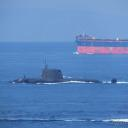submarine: (13, 66, 121, 85)
